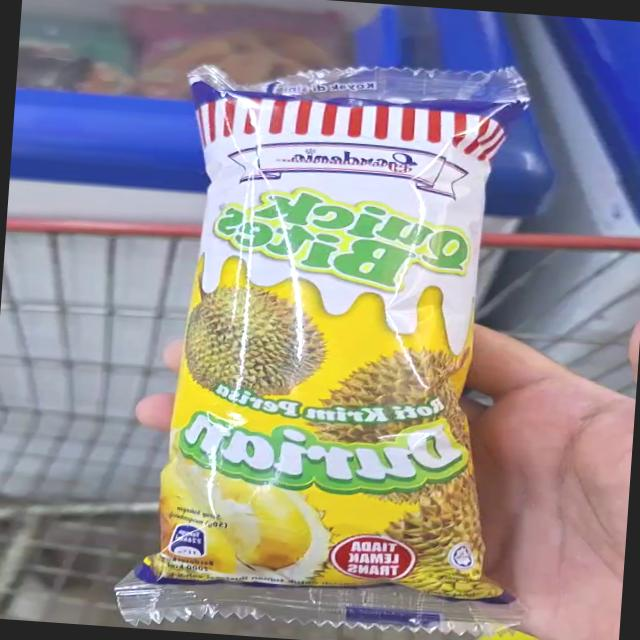Roti: (110, 50, 543, 640)
